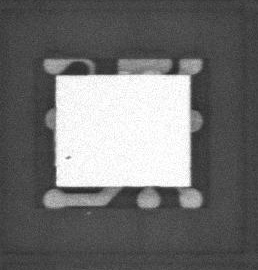DIE_INK: (60, 161, 70, 167)
